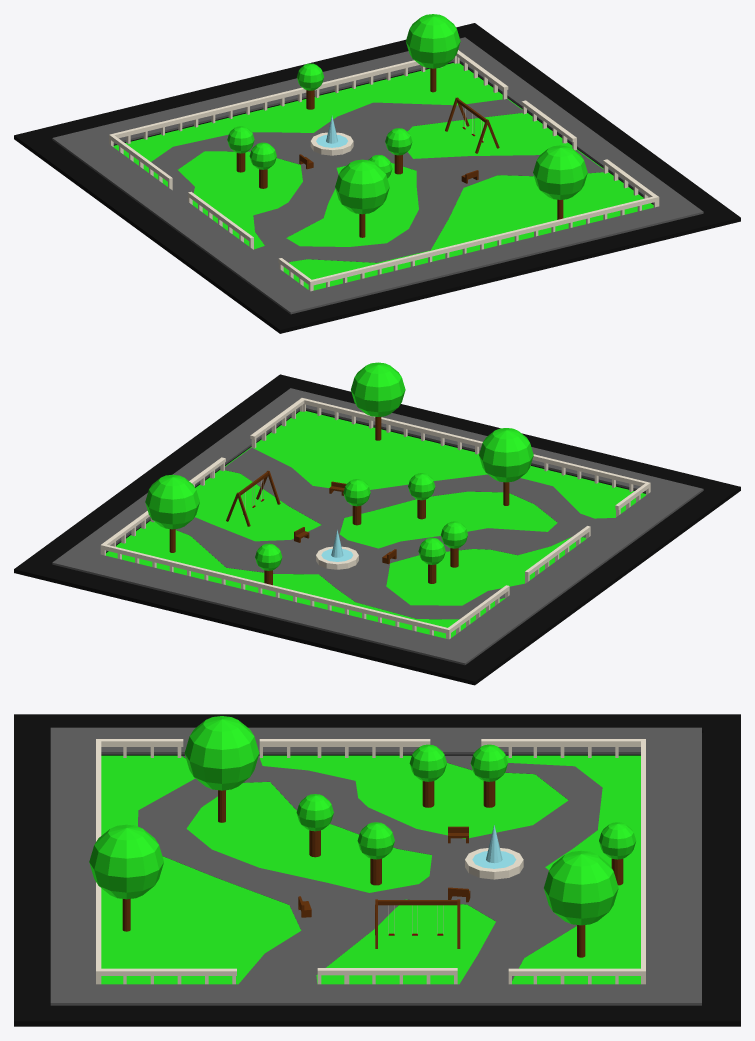
File: park.FBX
3 views of the same model, one above another, from view 1: azimuth 30°, elevation 25°; view 2: azimuth 150°, elevation 25°; view 3: azimuth 270°, elevation 25° (orthographic). The views are drawn at different scales.
Parts seen in each view (by area): view 1: Layer:bldgconcrete, Layer:greenery, Layer:street, Layer:0, Layer:wood, Layer:windows; view 2: Layer:greenery, Layer:bldgconcrete, Layer:street, Layer:0, Layer:wood; view 3: Layer:bldgconcrete, Layer:greenery, Layer:street, Layer:0, Layer:wood, Layer:windows, Layer:water.
Part boxes in pixels (x1,y1,x2,y2): Layer:bldgconcrete: (52,37,703,314); Layer:greenery: (113,14,653,290); Layer:street: (14,23,740,333); Layer:0: (109,50,659,291); Layer:wood: (236,68,563,237); Layer:windows: (310,132,353,155); Layer:greenery: (106,362,645,638); Layer:bldgconcrete: (52,388,703,665); Layer:street: (14,374,740,685); Layer:0: (100,398,650,639); Layer:wood: (169,417,509,585); Layer:bldgconcrete: (50,727,701,1005); Layer:greenery: (89,716,640,984); Layer:street: (14,714,740,1026); Layer:0: (96,739,645,984); Layer:wood: (122,781,623,957); Layer:windows: (465,848,523,879); Layer:water: (472,825,516,868).
Size of the model in its own units: 4000 by 643 by 4000.
